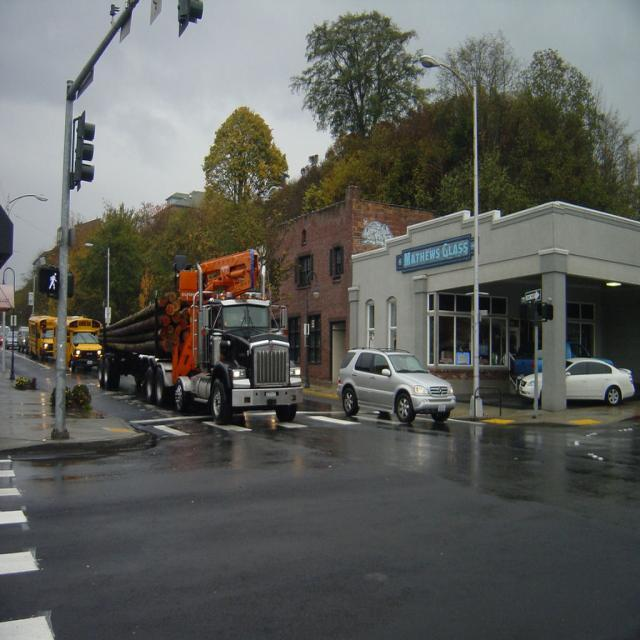off traffic light: (73, 115, 96, 181)
